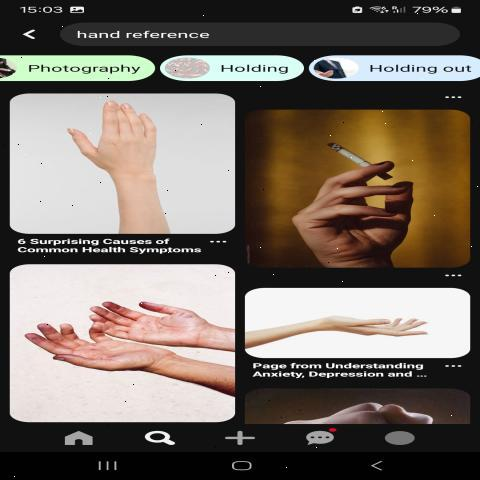Hands: (56, 92, 213, 222), (284, 159, 447, 260), (19, 314, 189, 398), (82, 282, 235, 349), (283, 304, 449, 345)
